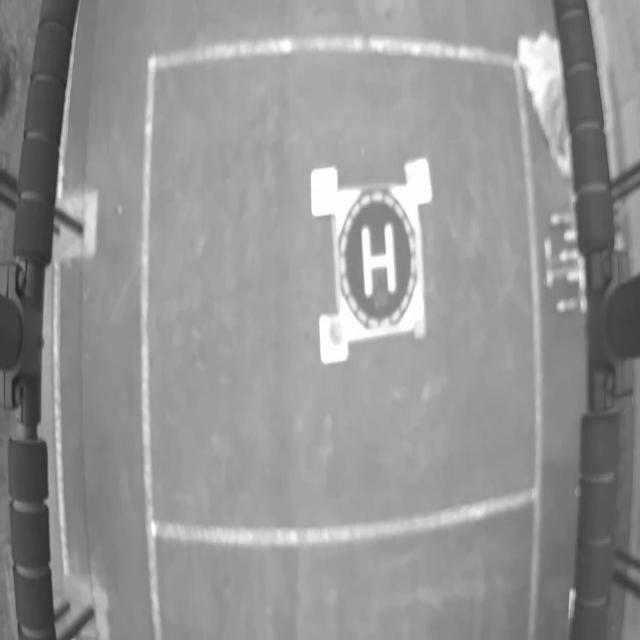Helipad: (361, 224, 397, 298)
